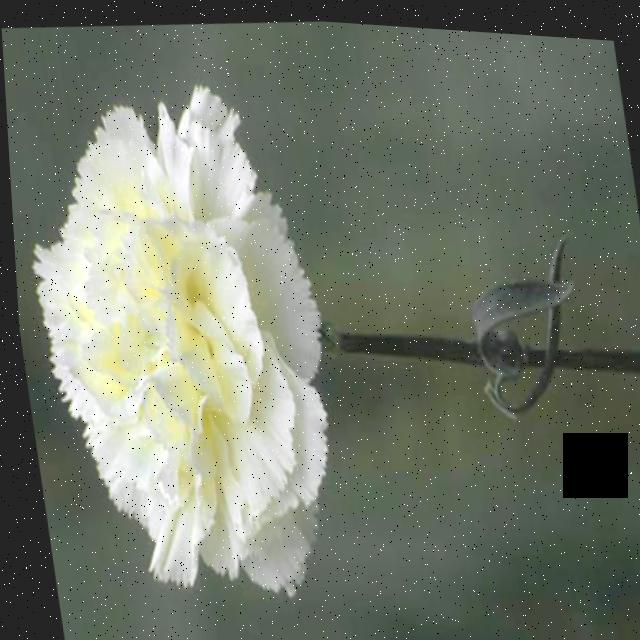carnation: (7, 89, 347, 599)
